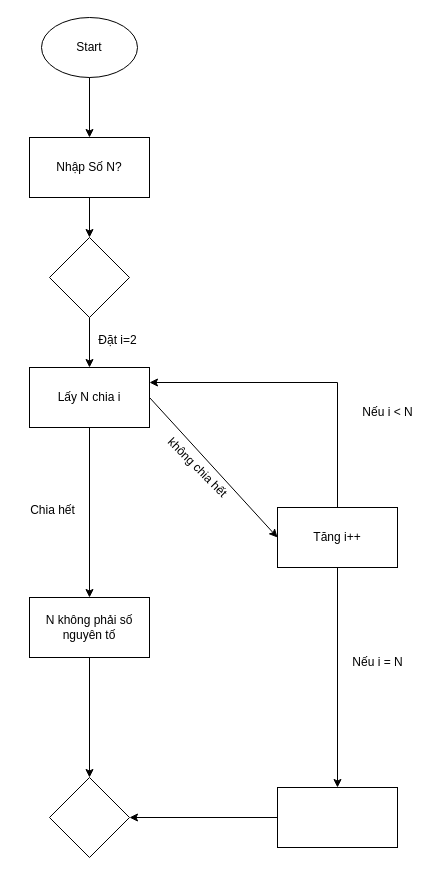
Image size: 439x875. Some labels were removed from this diagram. The centre of each missing label's shape, as x and y in pixels:
Kiểm tra: point 89,277
Kết Thúc: point 89,817
N là số nguyên tố: point 337,817
